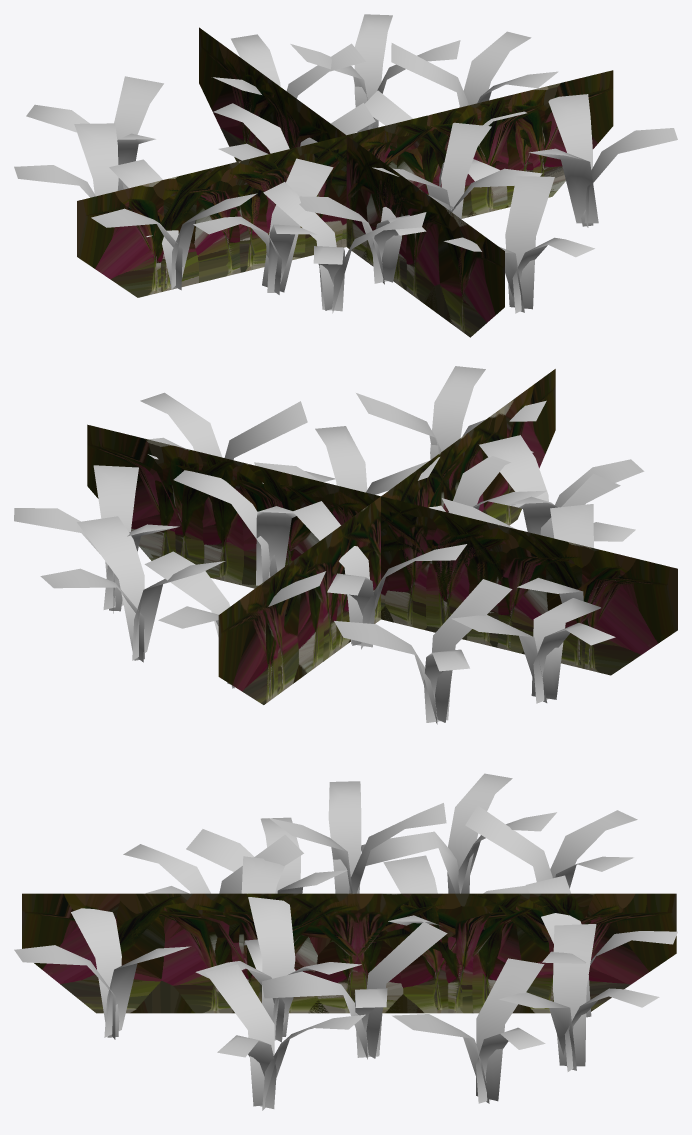
The model's file is Bush5.fbx.
3 renders of one model, top to bottom at view 1: azimuth 30°, elevation 25°; view 2: azimuth 150°, elevation 25°; view 3: azimuth 270°, elevation 25°, orthographic. The views are drawn at different scales.
Visible parts, largest first — view 1: Billboard, LOD0; view 2: Billboard, LOD0; view 3: LOD0, Billboard.
Boxes of the visible parts, x1,y1,x2,y2 form: Billboard: (77, 27, 613, 337); LOD0: (14, 14, 677, 313); Billboard: (87, 369, 677, 704); LOD0: (14, 366, 644, 724); LOD0: (14, 773, 677, 1110); Billboard: (22, 893, 676, 1013).
Size of what is drawn, in the model's own units: 548 by 107 by 541.
